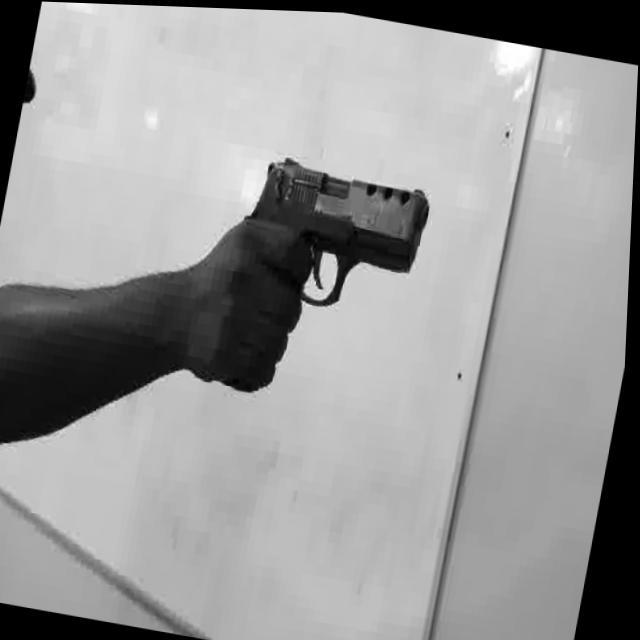weapon: (236, 148, 438, 322)
